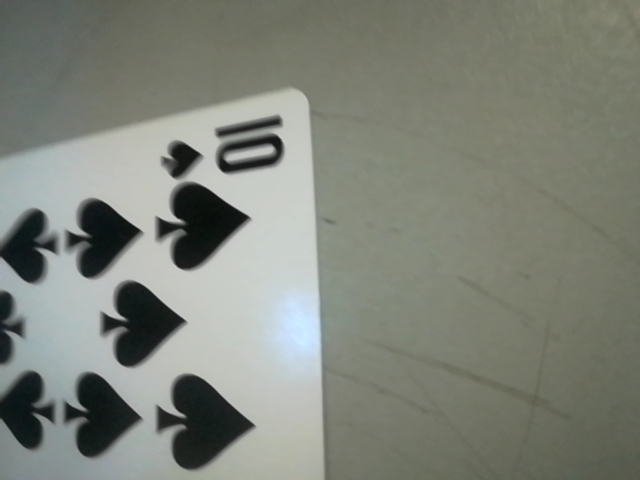ht 10: (159, 107, 304, 191)
